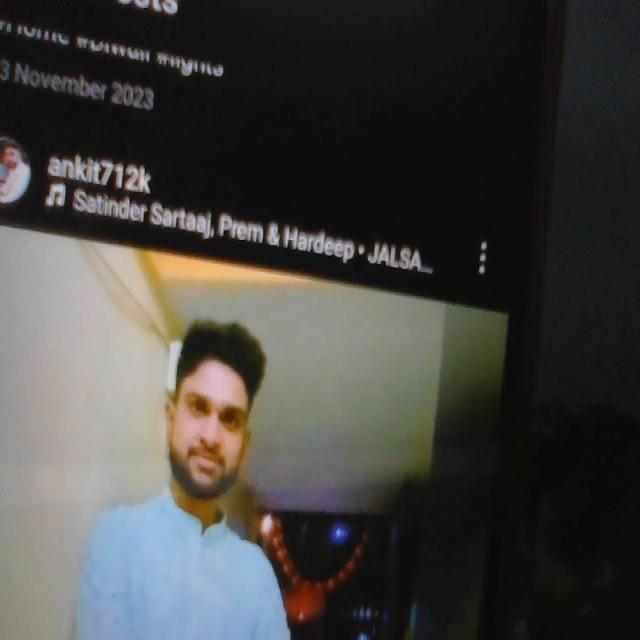fake: (165, 314, 264, 502)
